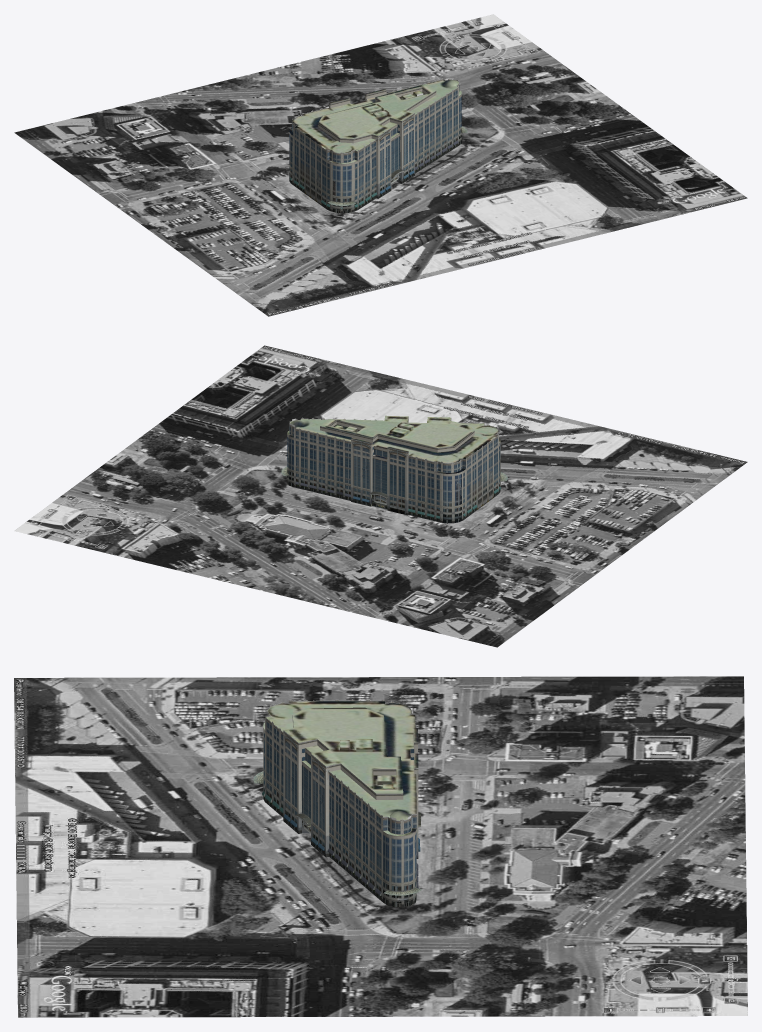
Rendered from 901_New_York_Ave.fbx.
3 views of the same model, one above another, from view 1: azimuth 30°, elevation 25°; view 2: azimuth 150°, elevation 25°; view 3: azimuth 270°, elevation 25° (orthographic). The views are drawn at different scales.
Visible parts, largest first — view 1: Google_Earth_Terrain, Google_Earth_Snapshot, Group1; view 2: Google_Earth_Terrain, Google_Earth_Snapshot, Group1; view 3: Google_Earth_Snapshot, Google_Earth_Terrain, Group1.
Boxes of the visible parts, x1,y1,x2,y2 form: Google_Earth_Terrain: (14, 14, 746, 316); Google_Earth_Snapshot: (15, 15, 747, 315); Group1: (289, 78, 467, 213); Google_Earth_Terrain: (14, 345, 747, 647); Google_Earth_Snapshot: (15, 346, 744, 646); Group1: (281, 415, 507, 523); Google_Earth_Snapshot: (14, 676, 747, 1017); Google_Earth_Terrain: (14, 676, 747, 1017); Group1: (253, 698, 421, 907).
Size of the model in its own units: 329 by 42.2 by 299.
